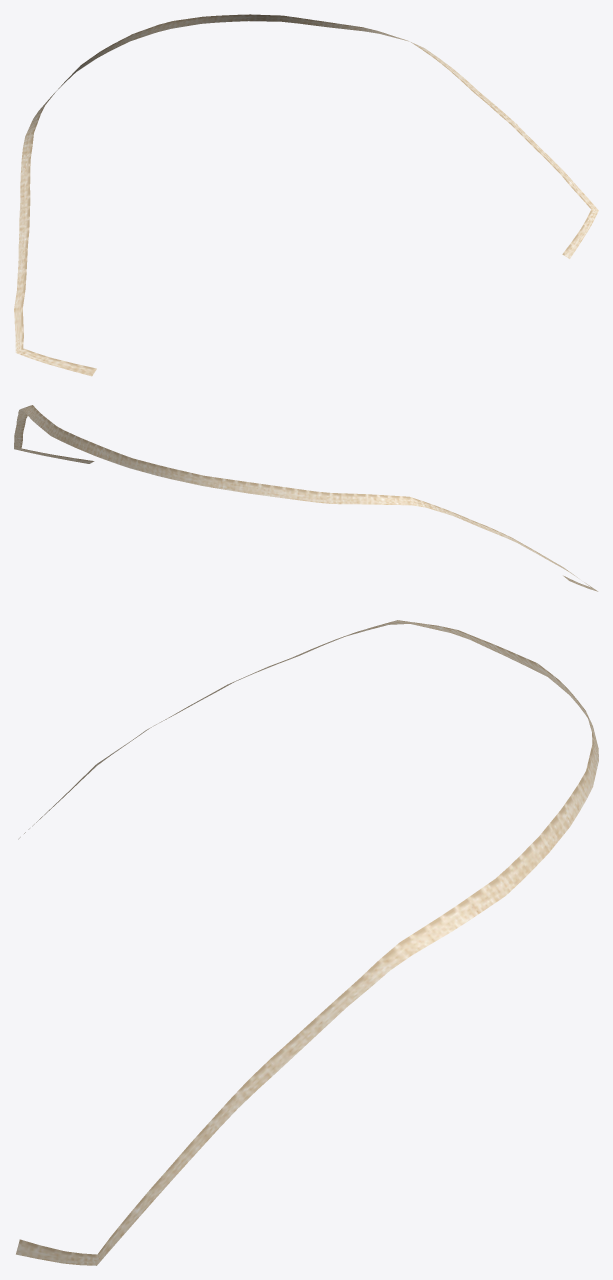
The model's file is Peak_collar_wide_AMF 6mm.glb.
3 views of the same model, one above another, from view 1: azimuth 30°, elevation 25°; view 2: azimuth 150°, elevation 25°; view 3: azimuth 270°, elevation 25° (orthographic). The views are drawn at different scales.
Visible parts, largest first — view 1: Peak_collar_wide_AMF; view 2: Peak_collar_wide_AMF; view 3: Peak_collar_wide_AMF.
Boxes of the visible parts, left/top/right/bottom form: Peak_collar_wide_AMF: left=14, top=14, right=598, bottom=376; Peak_collar_wide_AMF: left=14, top=405, right=598, bottom=591; Peak_collar_wide_AMF: left=16, top=620, right=598, bottom=1265.
Bounding box in the file's own units: 0.0421 × 0.0121 × 0.0207.
1 material, 1 textured.
